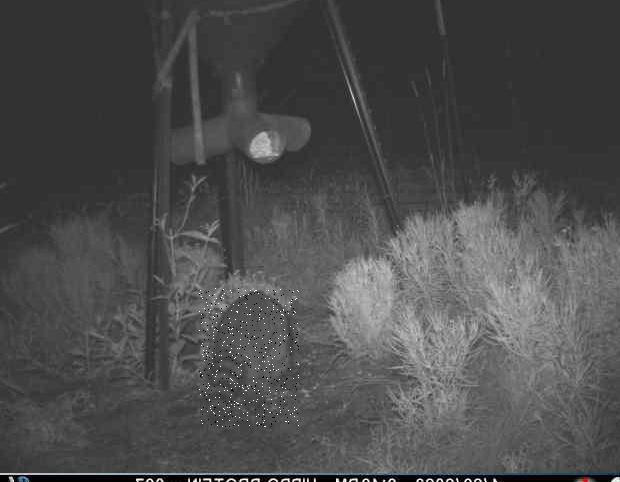Raccoon: (199, 289, 299, 428)
